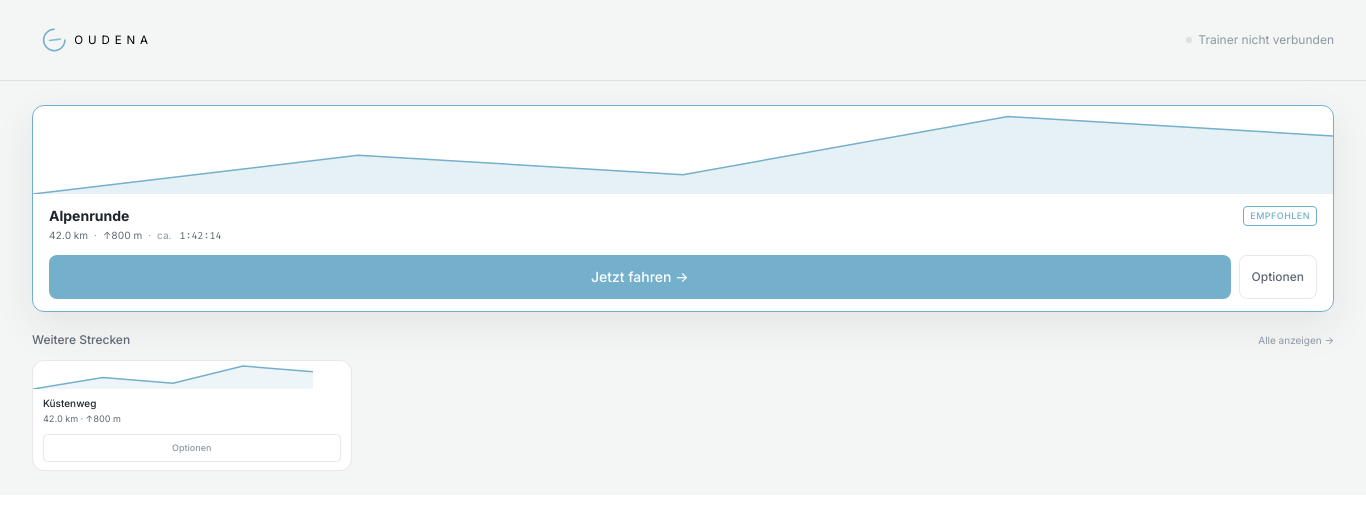
Scenario: HomeScreen - with routes › clicking a compact route promotes it to the hero card
This screenshot has width=1366, height=512.
Step 1. Click the text "Küstenweg" → point(70, 403), box [43,397,96,409]
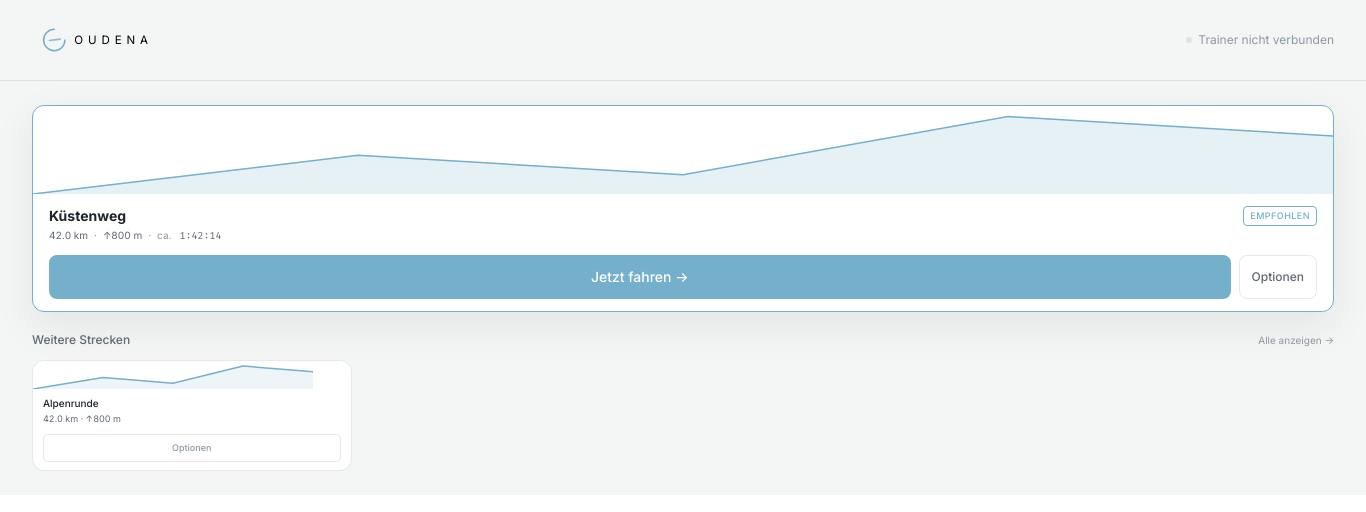
Expected: the text "Küstenweg" is shown, [49,206,126,226]
